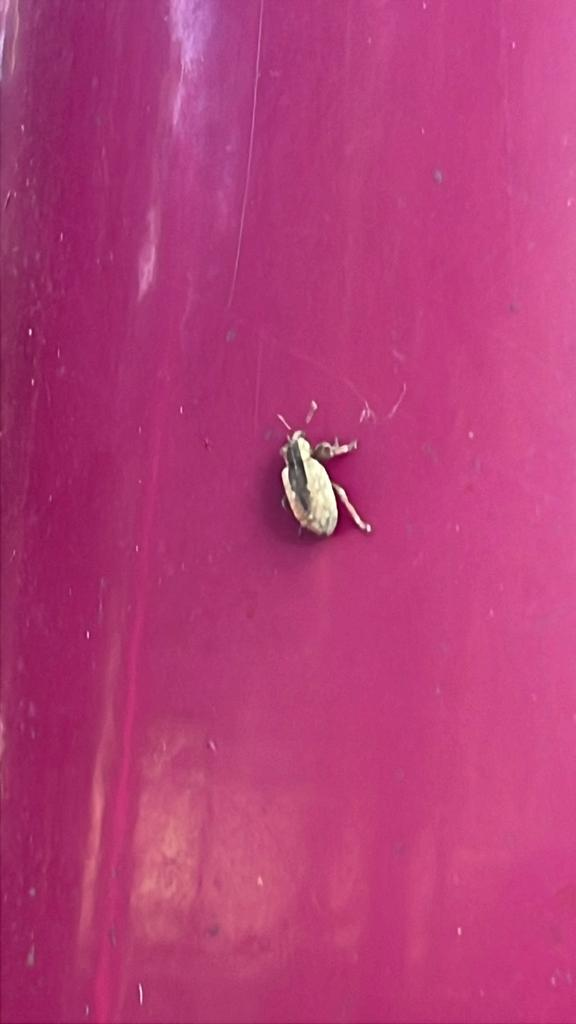weevils: (216, 373, 414, 591)
